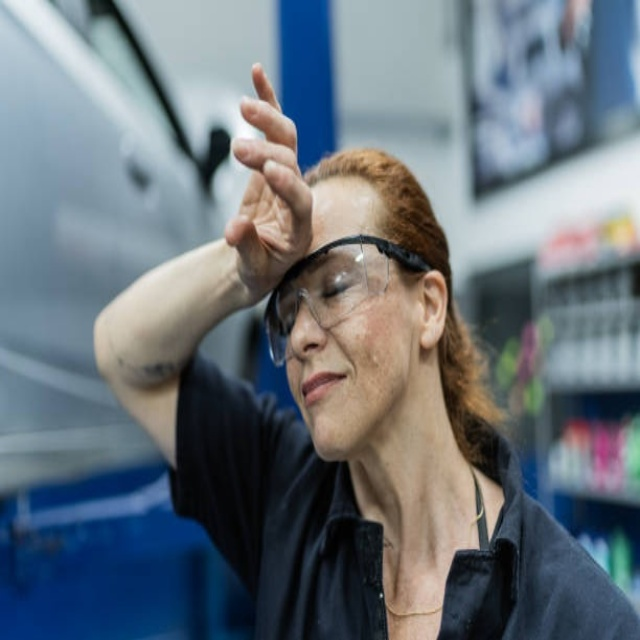Gafas: (263, 237, 422, 366)
Sin_guantes: (226, 56, 318, 299)
Sin_mascara: (292, 368, 365, 441)
